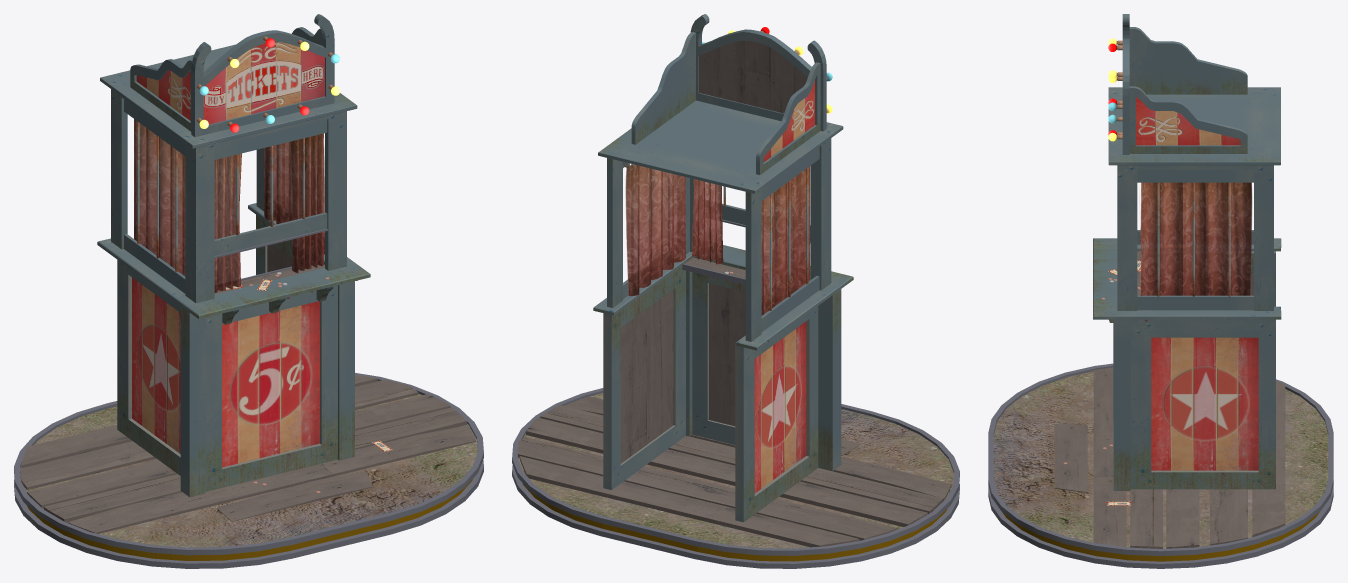
The model's file is ticket_booth.glb.
The picture shows the model from 3 angles, left to right: view 1: azimuth 30°, elevation 25°; view 2: azimuth 150°, elevation 25°; view 3: azimuth 270°, elevation 25°; orthographic projection. The views are drawn at different scales.
Parts seen in each view (by area): view 1: pCylinder11, pCube1, pCube12, pCube26, pCube31, pCube33, pTorus19, pCube3, pCube29, pCube32, pCube34, pCube35 (+16 smaller); view 2: pCylinder11, pCube30, pCube31, pCube20, pCube26, pCube12, pCube1, pTorus20, pCube36, pCube35, pCube34, pTorus19 (+12 smaller); view 3: pCylinder11, pCube30, pTorus20, pCube20, pCube12, pCube25, pCube67, pCube33, pCube3, pCube2, pCube36, pCube37 (+7 smaller).
Part boxes in pixels (x1=…): pCylinder11: x1=14, y1=373, x2=483, y2=568; pCube1: x1=205, y1=285, x2=337, y2=491; pCube12: x1=111, y1=89, x2=346, y2=303; pCube26: x1=191, y1=14, x2=334, y2=137; pCube31: x1=117, y1=260, x2=180, y2=475; pCube33: x1=67, y1=425, x2=475, y2=533; pTorus19: x1=134, y1=119, x2=185, y2=276; pCube3: x1=97, y1=203, x2=370, y2=318; pCube29: x1=44, y1=407, x2=466, y2=522; pCube32: x1=180, y1=306, x2=205, y2=497; pCube34: x1=27, y1=394, x2=450, y2=508; pCube35: x1=20, y1=379, x2=418, y2=489; pCylinder11: x1=512, y1=388, x2=959, y2=568; pCube30: x1=603, y1=266, x2=685, y2=489; pCube31: x1=735, y1=306, x2=818, y2=522; pCube20: x1=598, y1=100, x2=843, y2=193; pCube26: x1=690, y1=14, x2=826, y2=131; pCube12: x1=607, y1=138, x2=831, y2=341; pCube1: x1=692, y1=272, x2=745, y2=444; pTorus20: x1=623, y1=162, x2=685, y2=296; pCube36: x1=519, y1=456, x2=859, y2=547; pCube35: x1=517, y1=437, x2=896, y2=540; pCube34: x1=526, y1=417, x2=927, y2=526; pTorus19: x1=761, y1=166, x2=809, y2=315; pCylinder11: x1=988, y1=363, x2=1333, y2=568; pCube30: x1=1130, y1=319, x2=1275, y2=489; pTorus20: x1=1140, y1=182, x2=1252, y2=295; pCube20: x1=1108, y1=87, x2=1280, y2=165; pCube12: x1=1117, y1=165, x2=1273, y2=310; pCube25: x1=1129, y1=86, x2=1247, y2=153; pCube67: x1=1129, y1=27, x2=1247, y2=94; pCube33: x1=1093, y1=367, x2=1126, y2=547; pCube3: x1=1093, y1=238, x2=1281, y2=319; pCube2: x1=1113, y1=319, x2=1130, y2=490; pCube36: x1=1252, y1=381, x2=1285, y2=537; pCube37: x1=1054, y1=424, x2=1087, y2=492.
Size of the model in its own units: 0.0823 by 0.0867 by 0.063.
10 materials, 8 textured.
